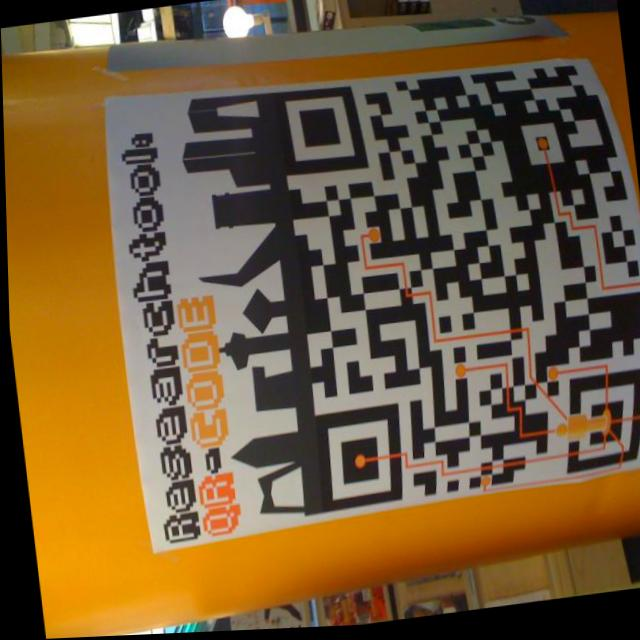qrcode: (271, 53, 640, 517)
